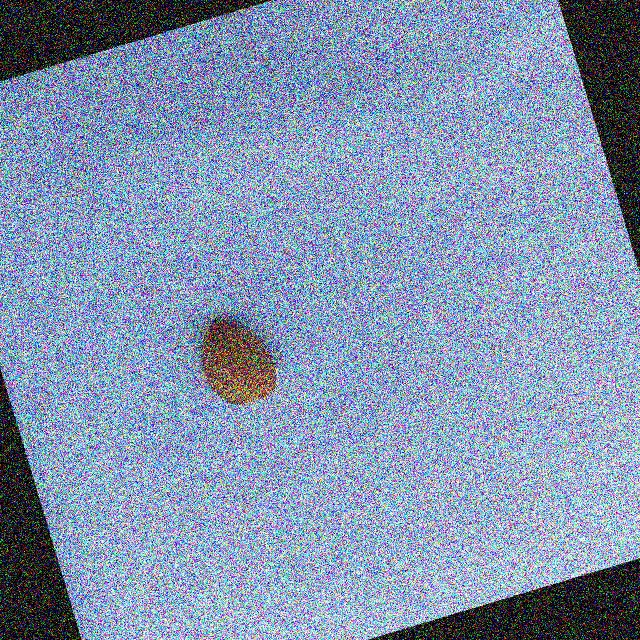grade2: (186, 303, 291, 417)
